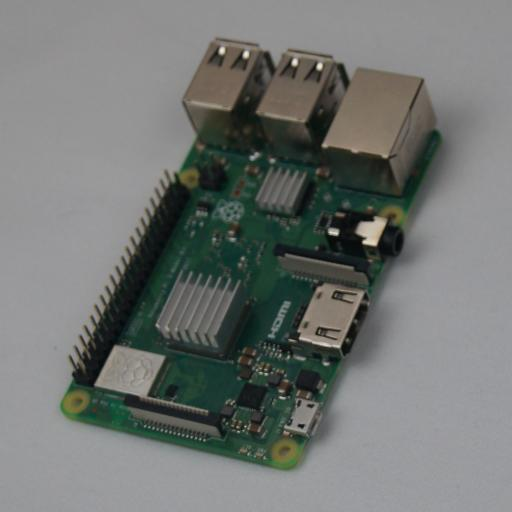Raspberry Pi 3 B-: (61, 38, 448, 470)
